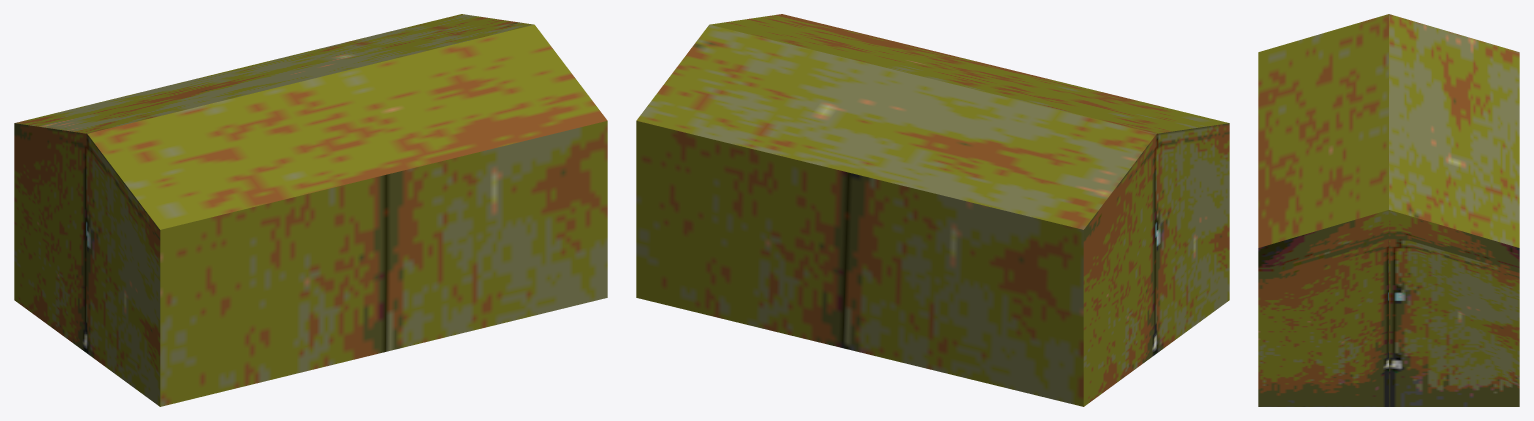
File: garage02.fbx
The picture shows the model from 3 angles, left to right: view 1: azimuth 30°, elevation 25°; view 2: azimuth 150°, elevation 25°; view 3: azimuth 270°, elevation 25°; orthographic projection. The views are drawn at different scales.
Parts seen in each view (by area): view 1: Cube.004; view 2: Cube.004; view 3: Cube.004.
Part boxes in pixels (x1,y1,x2,y2): Cube.004: (14, 14, 607, 406); Cube.004: (636, 14, 1229, 406); Cube.004: (1258, 14, 1519, 406).
Size of the model in its own units: 302 by 142 by 170.
1 material, 1 textured.
